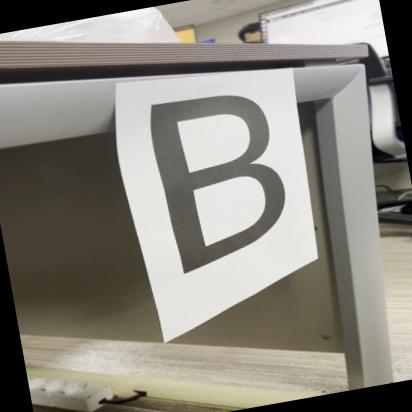seat: (133, 61, 314, 288)
